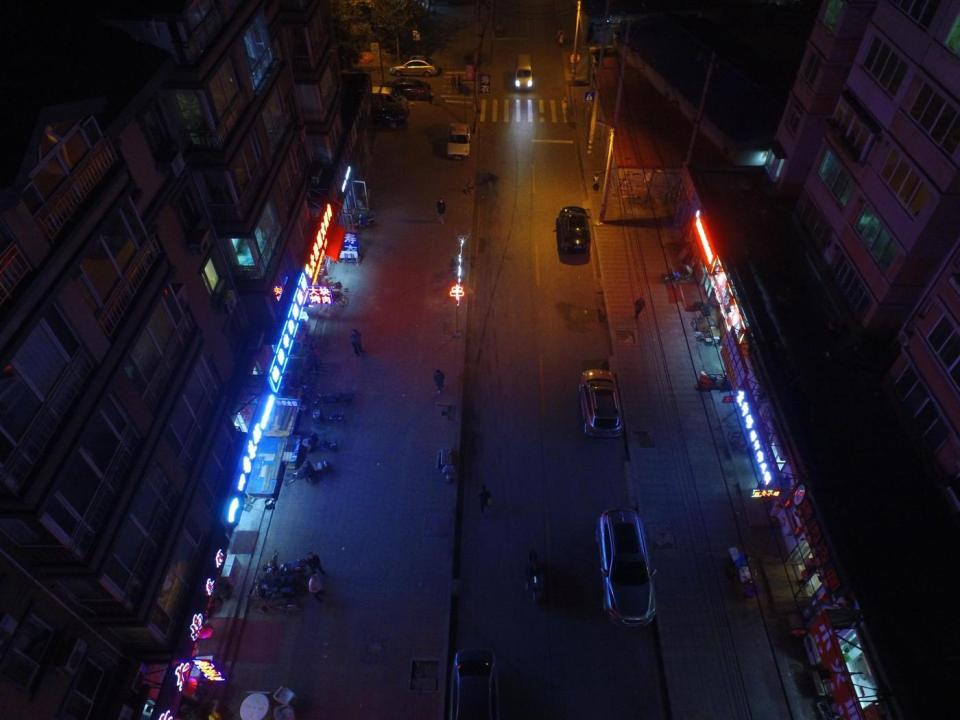car: (595, 507, 658, 626), (452, 649, 500, 720), (581, 368, 624, 437), (557, 206, 591, 253), (388, 56, 442, 76), (368, 104, 408, 131), (381, 79, 432, 100), (448, 123, 469, 160)
van: (369, 86, 410, 109), (515, 53, 536, 90)
